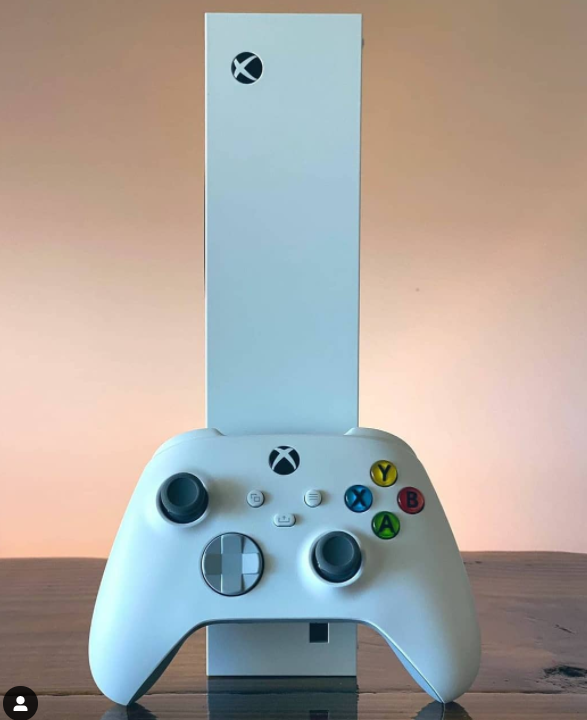gamingconsole: (90, 431, 483, 702)
